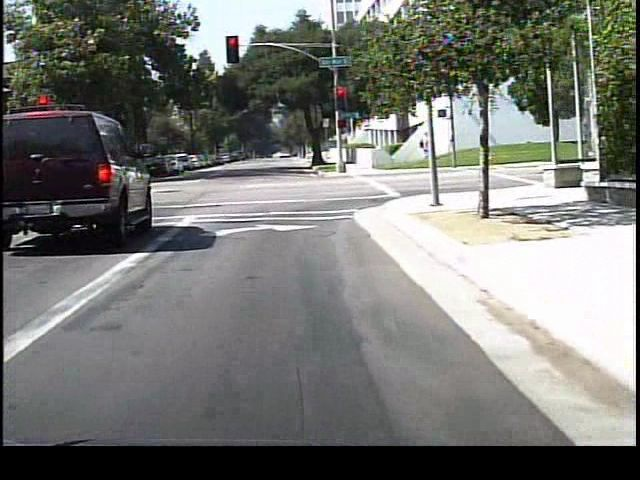person: (415, 127, 437, 169)
